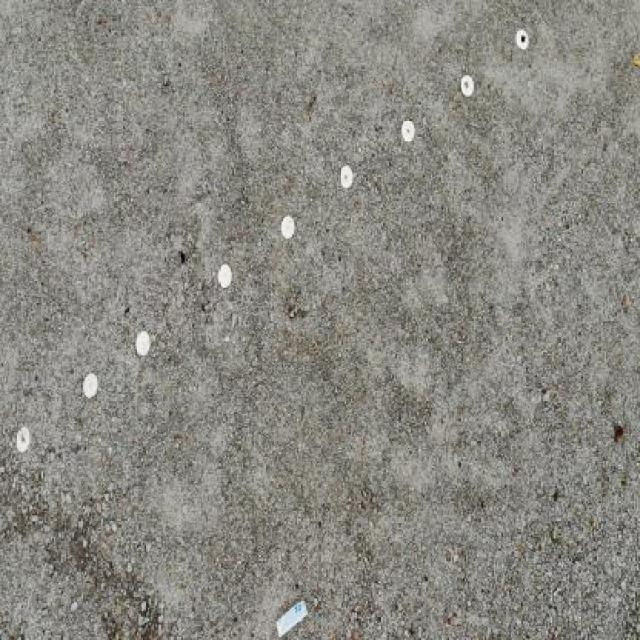Garbage: (275, 597, 309, 638)
